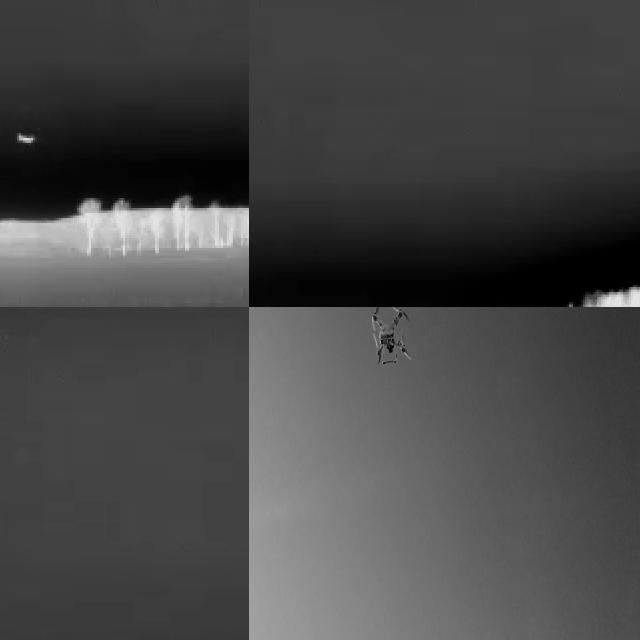1: (8, 124, 48, 160)
drone: (367, 307, 418, 376)
